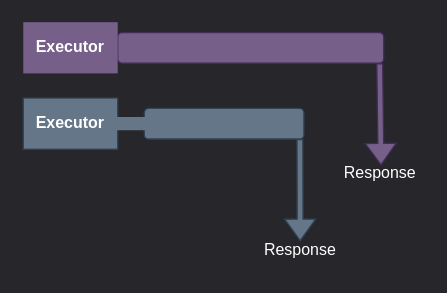
The diagram is 447 pixels wide and 293 high, and some of its shapes have lost their labels. Each missing label, with the box of its shape:
FIND: (116, 31, 384, 63)
GET: (143, 107, 304, 139)
